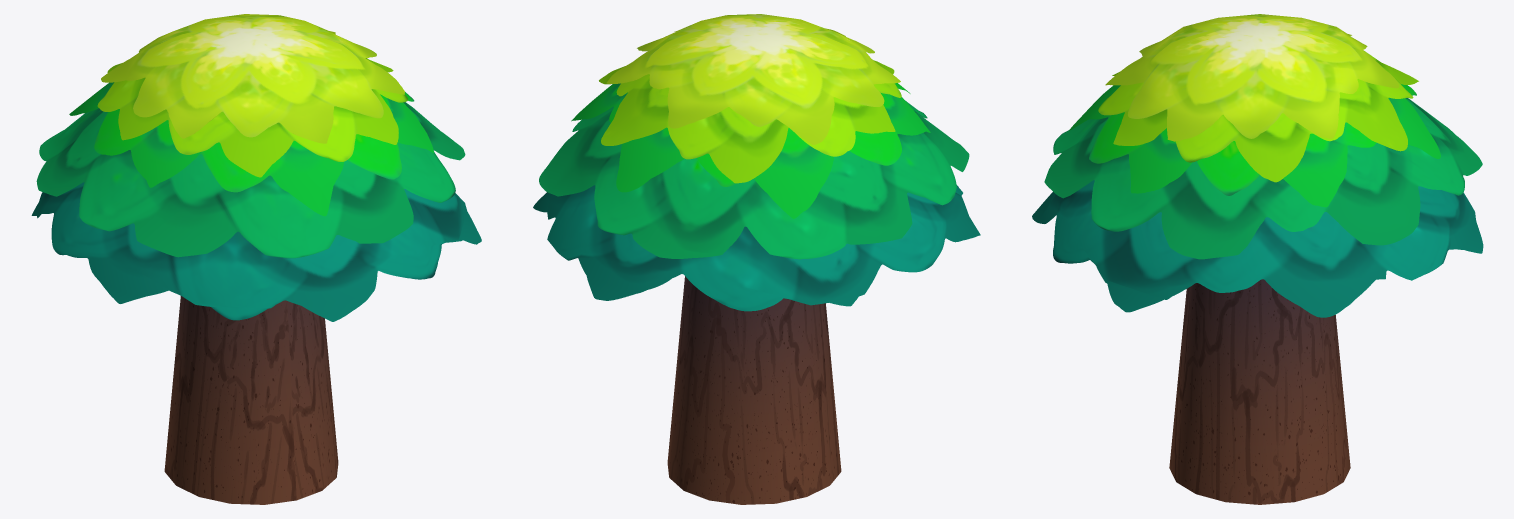
The model's file is Tree3.fbx.
3 views of the same model, side by side, from view 1: azimuth 30°, elevation 25°; view 2: azimuth 150°, elevation 25°; view 3: azimuth 270°, elevation 25° (orthographic).
Parts seen in each view (by area): view 1: Circle.001, Circle; view 2: Circle.001, Circle; view 3: Circle.001, Circle.
Part boxes in pixels (x1,y1,x2,y2): Circle.001: (31, 14, 481, 321); Circle: (164, 296, 338, 504); Circle.001: (533, 14, 980, 311); Circle: (667, 276, 841, 504); Circle.001: (1032, 14, 1483, 317); Circle: (1169, 279, 1350, 504).
Bounding box in the file's own units: 1104 × 1098 × 1104.
